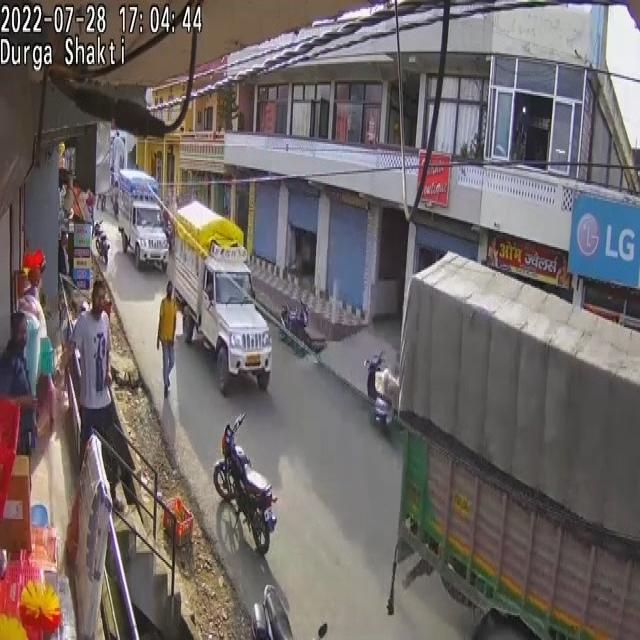non-fight: (69, 278, 136, 515), (158, 279, 178, 395)
